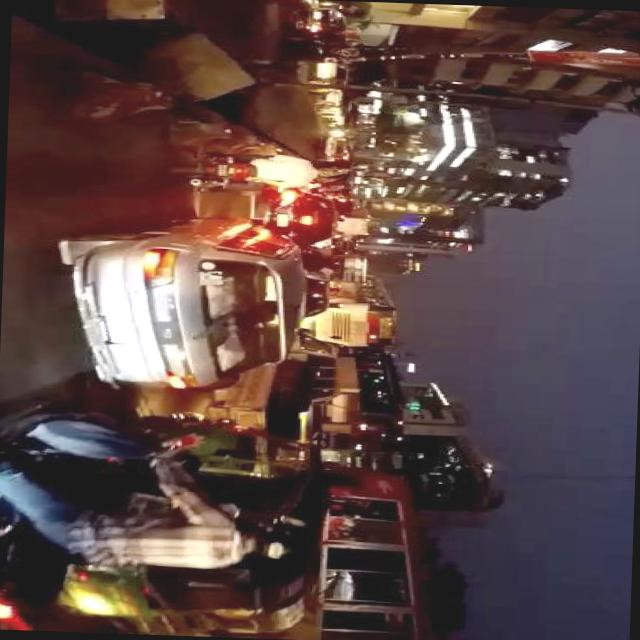bus: (218, 461, 425, 640), (324, 348, 406, 453), (322, 271, 404, 347)
car: (65, 208, 309, 396), (248, 185, 339, 248), (294, 1, 351, 62), (312, 58, 351, 92), (322, 87, 356, 115), (318, 134, 348, 161)
motorcycle: (64, 412, 330, 640), (0, 407, 208, 633), (172, 150, 255, 187)
truck: (210, 326, 345, 466), (332, 252, 371, 282), (335, 208, 372, 234)
